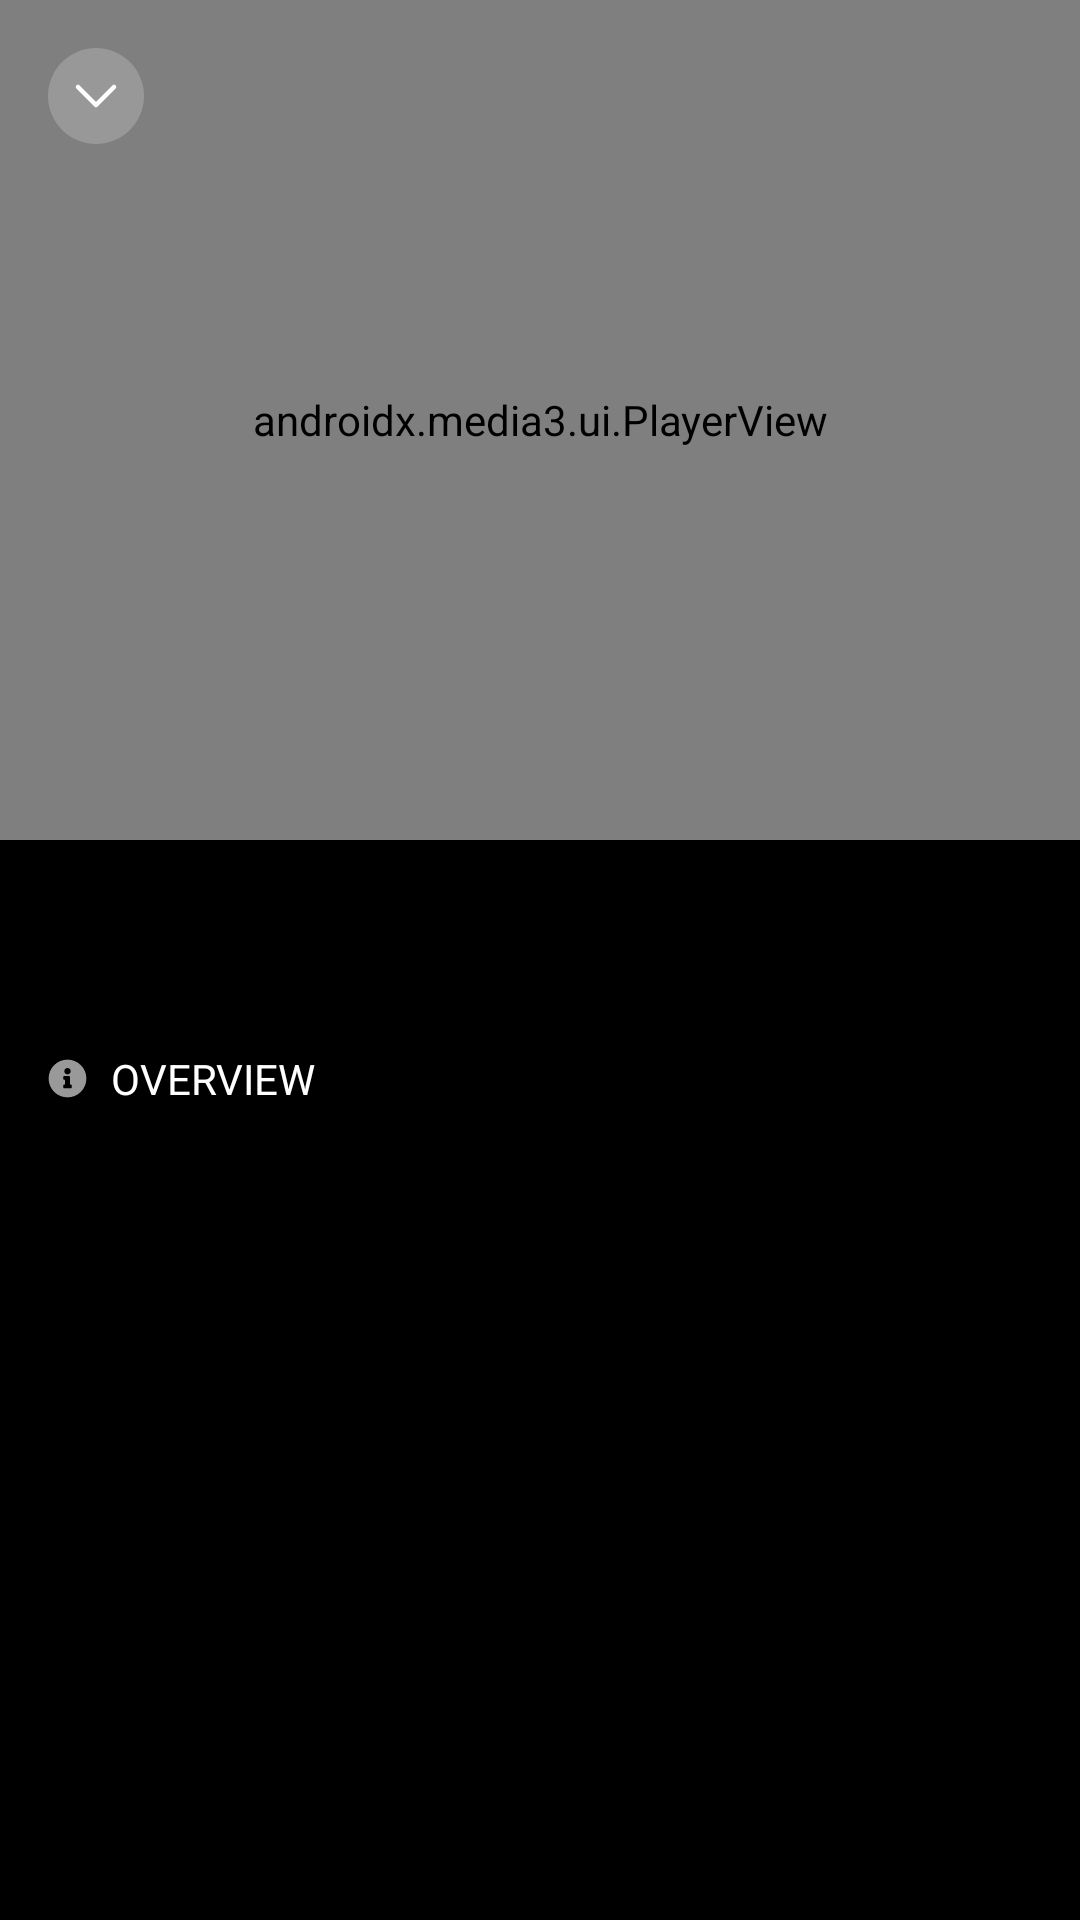

Icons on this 1080w x 1920h Android screen, each with its box as (x1, y1, x2, y2):
down: (49, 48, 143, 144)
info: (48, 1059, 87, 1098)
